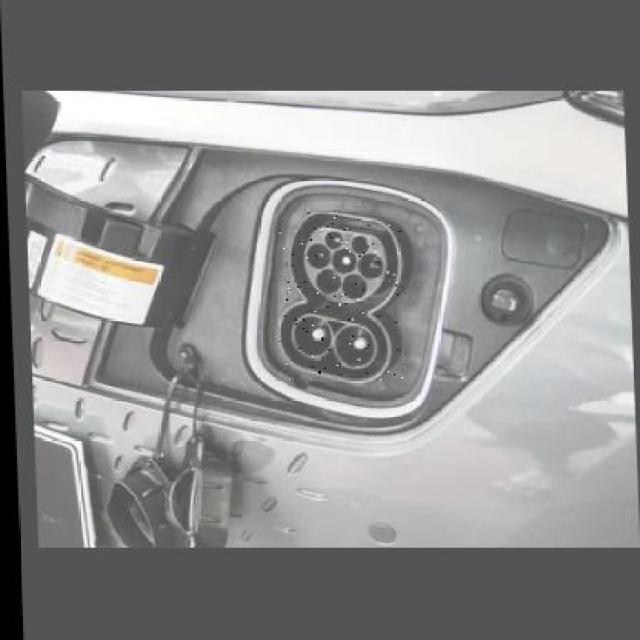CCS2: (238, 180, 432, 427)
